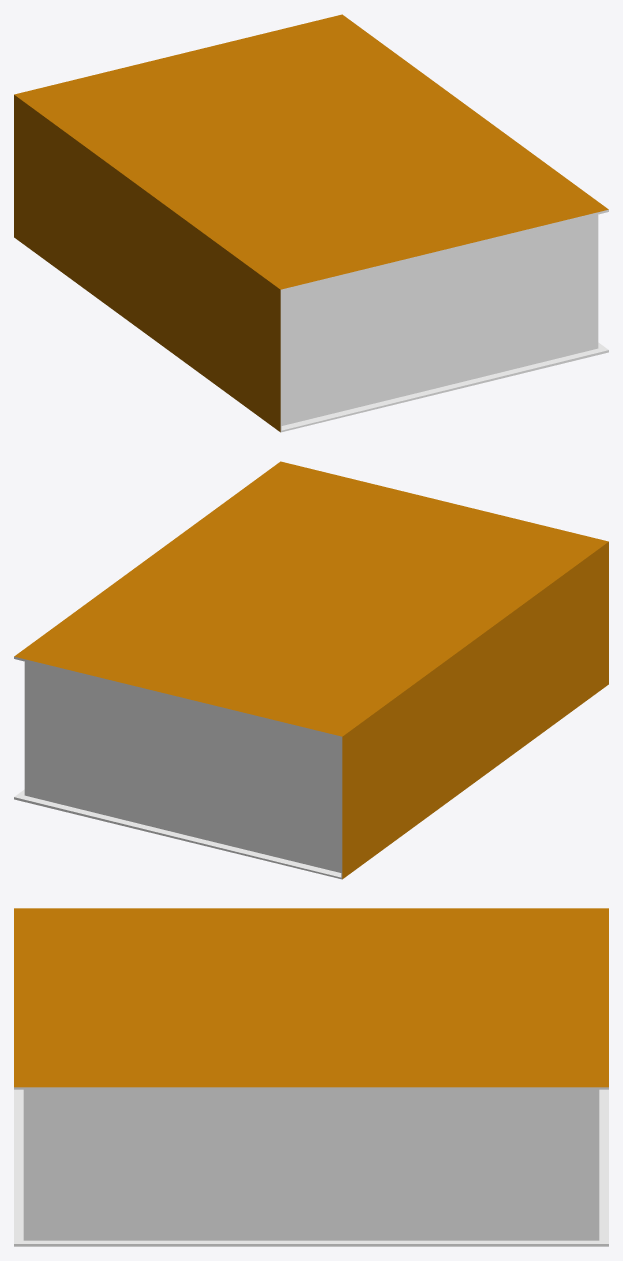
File: Book_05.fbx
3 renders of one model, top to bottom at view 1: azimuth 30°, elevation 25°; view 2: azimuth 150°, elevation 25°; view 3: azimuth 270°, elevation 25°, orthographic. The views are drawn at different scales.
Visible parts, largest first — view 1: Book_05; view 2: Book_05; view 3: Book_05.
Part boxes in pixels (x1,y1,x2,y2): Book_05: (14,14,608,432); Book_05: (14,461,608,879); Book_05: (14,908,608,1246).
Bounding box in the file's own units: 21.61 × 8.98 × 30.4.
